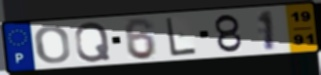1: (255, 9, 279, 51)
6: (123, 17, 159, 61)
8: (213, 13, 244, 53)
L: (164, 16, 199, 58)
O: (33, 25, 73, 66)
Q: (73, 21, 113, 64)
